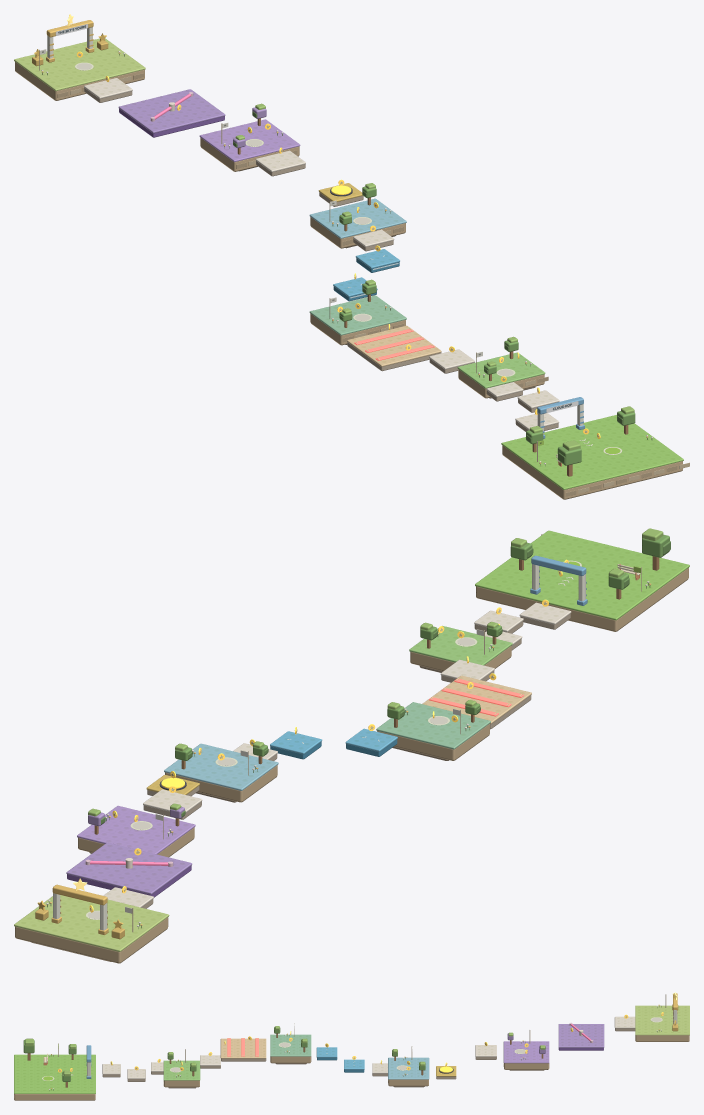
Rendered from blockyard-cloud-hop.glb.
The picture shows the model from 3 angles, top to bottom: view 1: azimuth 30°, elevation 25°; view 2: azimuth 150°, elevation 25°; view 3: azimuth 270°, elevation 25°; orthographic projection. The views are drawn at different scales.
Parts seen in each view (by area): view 1: Blockyard — Cloud Hop world; view 2: Blockyard — Cloud Hop world; view 3: Blockyard — Cloud Hop world.
Part boxes in pixels (box(x1,y1,x2,y2)): Blockyard — Cloud Hop world: box(14, 14, 689, 499); Blockyard — Cloud Hop world: box(14, 528, 689, 963); Blockyard — Cloud Hop world: box(14, 992, 689, 1100).
Size of the model in its own units: 27.08 by 18.77 by 149.
79 materials, 19 textured.
